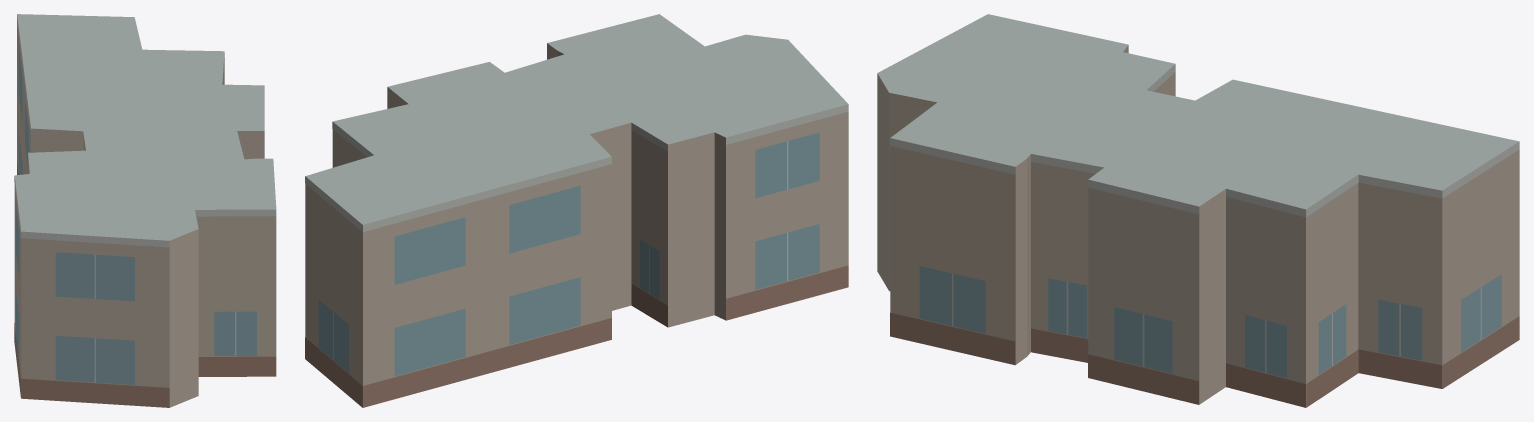
The model's file is survey-upis-32754555.glb.
3 views of the same model, side by side, from view 1: azimuth 30°, elevation 25°; view 2: azimuth 150°, elevation 25°; view 3: azimuth 270°, elevation 25° (orthographic). The views are drawn at different scales.
Parts seen in each view (by area): view 1: survey-upis-32754555.tmp; view 2: survey-upis-32754555.tmp; view 3: survey-upis-32754555.tmp.
Part boxes in pixels (box(x1,y1,x2,y2)): survey-upis-32754555.tmp: box(14, 14, 276, 407); survey-upis-32754555.tmp: box(305, 14, 848, 407); survey-upis-32754555.tmp: box(877, 14, 1519, 407).
Size of the model in its own units: 12.9 by 6.1 by 17.91.
